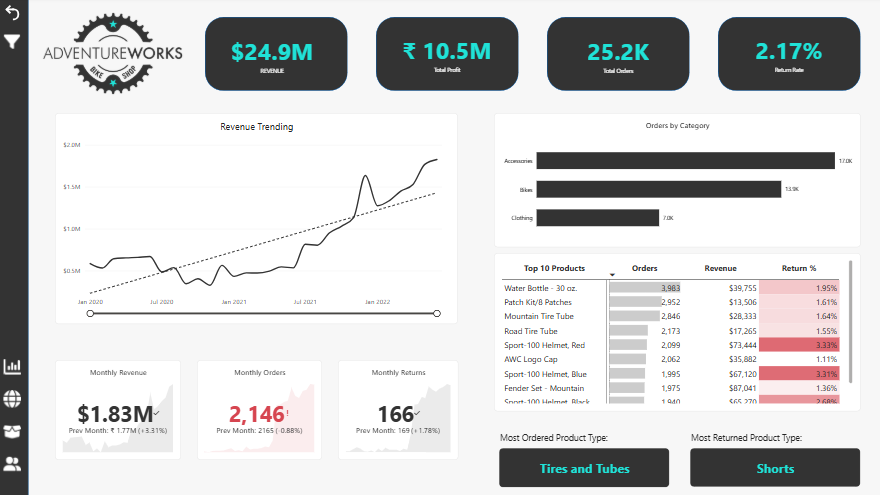

Layout of this report page (visuals, bound fields, positions):
{"tool":"powerbi","page":{"name":"Exec Dashboard","canvas":[1920,1080],"ordinal":0},"visuals":[{"type":"image","title":"AW Logo","box":[70,16,368,214],"z":0},{"type":"cardVisual","fields":{"Data":["Measure Table.Total Revenue"]},"box":[412,28.6,368.7,191.4],"z":0,"group":"g2"},{"type":"group","id":"g1","title":"KPI Backgrounds","box":[451.3,43.9,1416.4,159.5],"z":0,"group":"g3"},{"type":"shape","box":[451.3,43.9,308.1,159.5],"z":0,"group":"g1"},{"type":"actionButton","box":[0,766.8,69.1,64.8],"z":0,"group":"g6"},{"type":"cardVisual","fields":{"Data":["Min(Product Subcategories Lookup.SubcategoryName)"]},"box":[1498,974,368,84],"z":0,"group":"g4"},{"type":"cardVisual","fields":{"Data":["Min(Product Subcategories Lookup.SubcategoryName)"]},"box":[1086,974.6,368,85.4],"z":0,"group":"g5"},{"type":"shape","title":"Left Nav Background","box":[0,0,70,1080],"z":1000},{"type":"group","id":"g2","title":"KPI Values","box":[412,26,1486,194],"z":1000,"group":"g3"},{"type":"cardVisual","fields":{"Data":["Measure Table.Return Rate"]},"box":[1529.3,26,368.7,191.4],"z":1000,"group":"g2"},{"type":"shape","box":[1559.6,43.9,308.1,159.5],"z":1000,"group":"g1"},{"type":"actionButton","box":[0,836.6,69.1,64.8],"z":1000,"group":"g6"},{"type":"textbox","box":[1088.2,940,270,32.5],"z":1000,"group":"g5"},{"type":"textbox","box":[1500.2,940,270,32],"z":1000,"group":"g4"},{"type":"group","id":"g3","title":"KPIs","box":[412,26,1486,194],"z":2000},{"type":"cardVisual","fields":{"Data":["Measure Table.Total Orders"]},"box":[1159.6,28.6,368.7,191.4],"z":2000,"group":"g2"},{"type":"shape","box":[1190.2,43.9,308.1,159.5],"z":2000,"group":"g1"},{"type":"actionButton","box":[0,906.5,69.1,64.8],"z":2000,"group":"g6"},{"type":"cardVisual","fields":{"Data":["Measure Table.Total Profit"]},"box":[789.9,26,368.7,191.4],"z":3000,"group":"g2"},{"type":"shape","box":[820.7,43.9,308.1,159.5],"z":3000,"group":"g1"},{"type":"lineChart","title":"Revenue Trending","fields":{"Category":["Calendar Lookup.Year","Calendar Lookup.Start of Quarter","Calendar Lookup.Start of Month"],"Y":["Measure Table.Total Revenue"]},"box":[128,250,870,456],"z":3000},{"type":"actionButton","box":[0,976.3,69.1,64.8],"z":3000,"group":"g6"},{"type":"kpi","title":"Monthly Revenue","fields":{"Goal":["Measure Table.Previous Month Revenue"],"Indicator":["Measure Table.Total Revenue"],"TrendLine":["Calendar Lookup.Start of Month"]},"box":[128,784,272,216],"z":4000},{"type":"kpi","title":"Monthly Orders","fields":{"Goal":["Measure Table.Previous Months Orders"],"Indicator":["Measure Table.Total Orders"],"TrendLine":["Calendar Lookup.Start of Month"]},"box":[434,784,270,216],"z":5000},{"type":"kpi","title":"Monthly Returns","fields":{"Goal":["Measure Table.Previous Months Returns"],"Indicator":["Measure Table.Total Returns"],"TrendLine":["Calendar Lookup.Start of Month"]},"box":[738,784,260,216],"z":6000},{"type":"clusteredBarChart","title":"Orders by Category","fields":{"Category":["Product Categories Lookup.CategoryName"],"Y":["Measure Table.Total Orders"]},"box":[1076,250,792,290],"z":7000},{"type":"pivotTable","fields":{"Rows":["Product Lookup.ProductName"],"Values":["Measure Table.Total Orders","Measure Table.Total Revenue","Measure Table.Return Rate"]},"box":[1076,553,792,342],"z":8000},{"type":"group","id":"g4","title":"Group 1","box":[1498,940,368,118],"z":9000},{"type":"group","id":"g5","title":"Group 1","box":[1086,940,368,120],"z":10000},{"type":"actionButton","box":[0,0,70,66.7],"z":11000},{"type":"group","id":"g6","title":"Navigation","box":[0,766.8,69.1,274.3],"z":12000},{"type":"actionButton","box":[0,67,69.1,58.3],"z":13000}]}

Visuals, with their boxes on the page's 1920x1080 design canvas (x1, y1, x2, y2). These are canvas units, not pixel positions in the 880x495 screenshot, which may show the page scaled, cropped or inside an application window:
"AW Logo" image: l=70, t=16, r=438, b=230
cardVisual - Measure Table.Total Revenue: l=412, t=29, r=781, b=220
"KPI Backgrounds" group: l=451, t=44, r=1868, b=203
shape: l=451, t=44, r=759, b=203
actionButton: l=0, t=767, r=69, b=832
cardVisual - Min(Product Subcategories Lookup.SubcategoryName): l=1498, t=974, r=1866, b=1058
cardVisual - Min(Product Subcategories Lookup.SubcategoryName): l=1086, t=975, r=1454, b=1060
"Left Nav Background" shape: l=0, t=0, r=70, b=1080
"KPI Values" group: l=412, t=26, r=1898, b=220
cardVisual - Measure Table.Return Rate: l=1529, t=26, r=1898, b=217
shape: l=1560, t=44, r=1868, b=203
actionButton: l=0, t=837, r=69, b=901
textbox: l=1088, t=940, r=1358, b=972
textbox: l=1500, t=940, r=1770, b=972
"KPIs" group: l=412, t=26, r=1898, b=220
cardVisual - Measure Table.Total Orders: l=1160, t=29, r=1528, b=220
shape: l=1190, t=44, r=1498, b=203
actionButton: l=0, t=906, r=69, b=971
cardVisual - Measure Table.Total Profit: l=790, t=26, r=1159, b=217
shape: l=821, t=44, r=1129, b=203
"Revenue Trending" lineChart: l=128, t=250, r=998, b=706
actionButton: l=0, t=976, r=69, b=1041
"Monthly Revenue" kpi: l=128, t=784, r=400, b=1000
"Monthly Orders" kpi: l=434, t=784, r=704, b=1000
"Monthly Returns" kpi: l=738, t=784, r=998, b=1000
"Orders by Category" clusteredBarChart: l=1076, t=250, r=1868, b=540
pivotTable - Product Lookup.ProductName x Measure Table.Total Orders: l=1076, t=553, r=1868, b=895
"Group 1" group: l=1498, t=940, r=1866, b=1058
"Group 1" group: l=1086, t=940, r=1454, b=1060
actionButton: l=0, t=0, r=70, b=67
"Navigation" group: l=0, t=767, r=69, b=1041
actionButton: l=0, t=67, r=69, b=125
